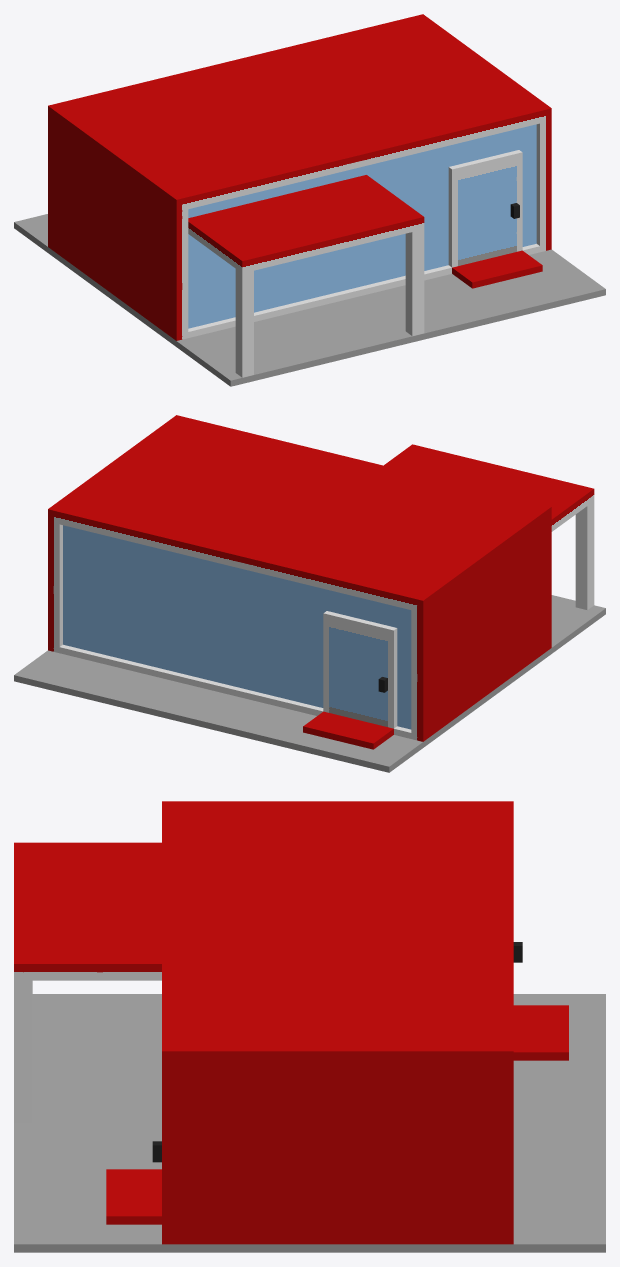
File: obj_house2a.fbx
3 renders of one model, top to bottom at view 1: azimuth 30°, elevation 25°; view 2: azimuth 150°, elevation 25°; view 3: azimuth 270°, elevation 25°, orthographic. The views are drawn at different scales.
Visible parts, largest first — view 1: obj_house2a; view 2: obj_house2a; view 3: obj_house2a.
Part boxes in pixels (left/top/right/bottom): obj_house2a: left=14, top=14, right=605, bottom=386; obj_house2a: left=14, top=415, right=605, bottom=772; obj_house2a: left=14, top=801, right=605, bottom=1252.
Size of the model in its own units: 6.4 by 6.4 by 2.4.
1 material, 1 textured.
